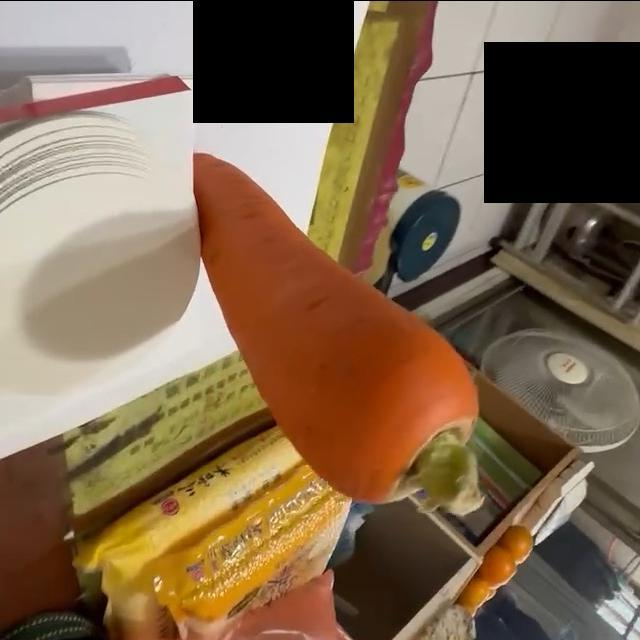carrot: (185, 153, 486, 515)
